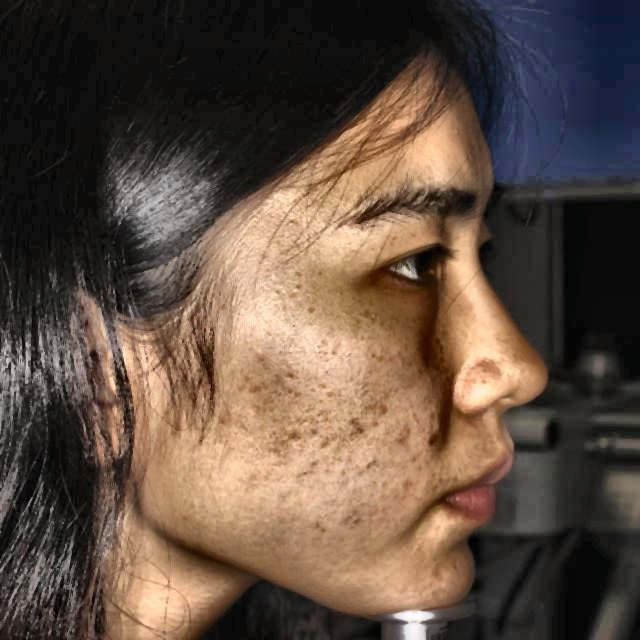comedone: (423, 421, 451, 455), (385, 425, 415, 447)
